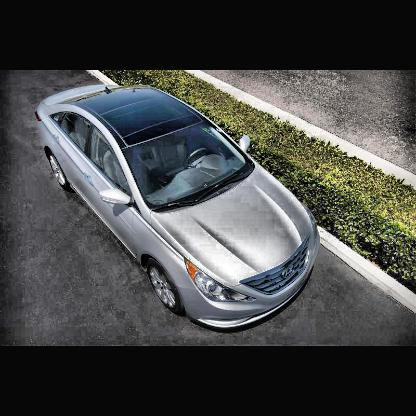Hyundai Azera Sedan 2012: (36, 86, 323, 333)
